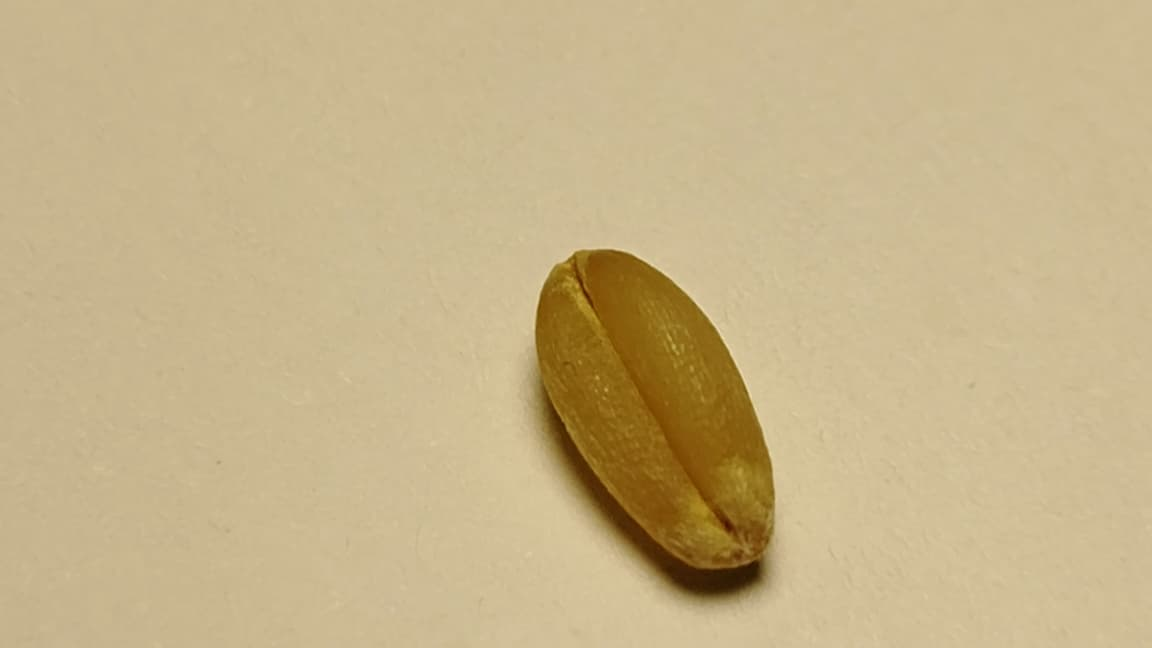healthy: (536, 250, 773, 568)
